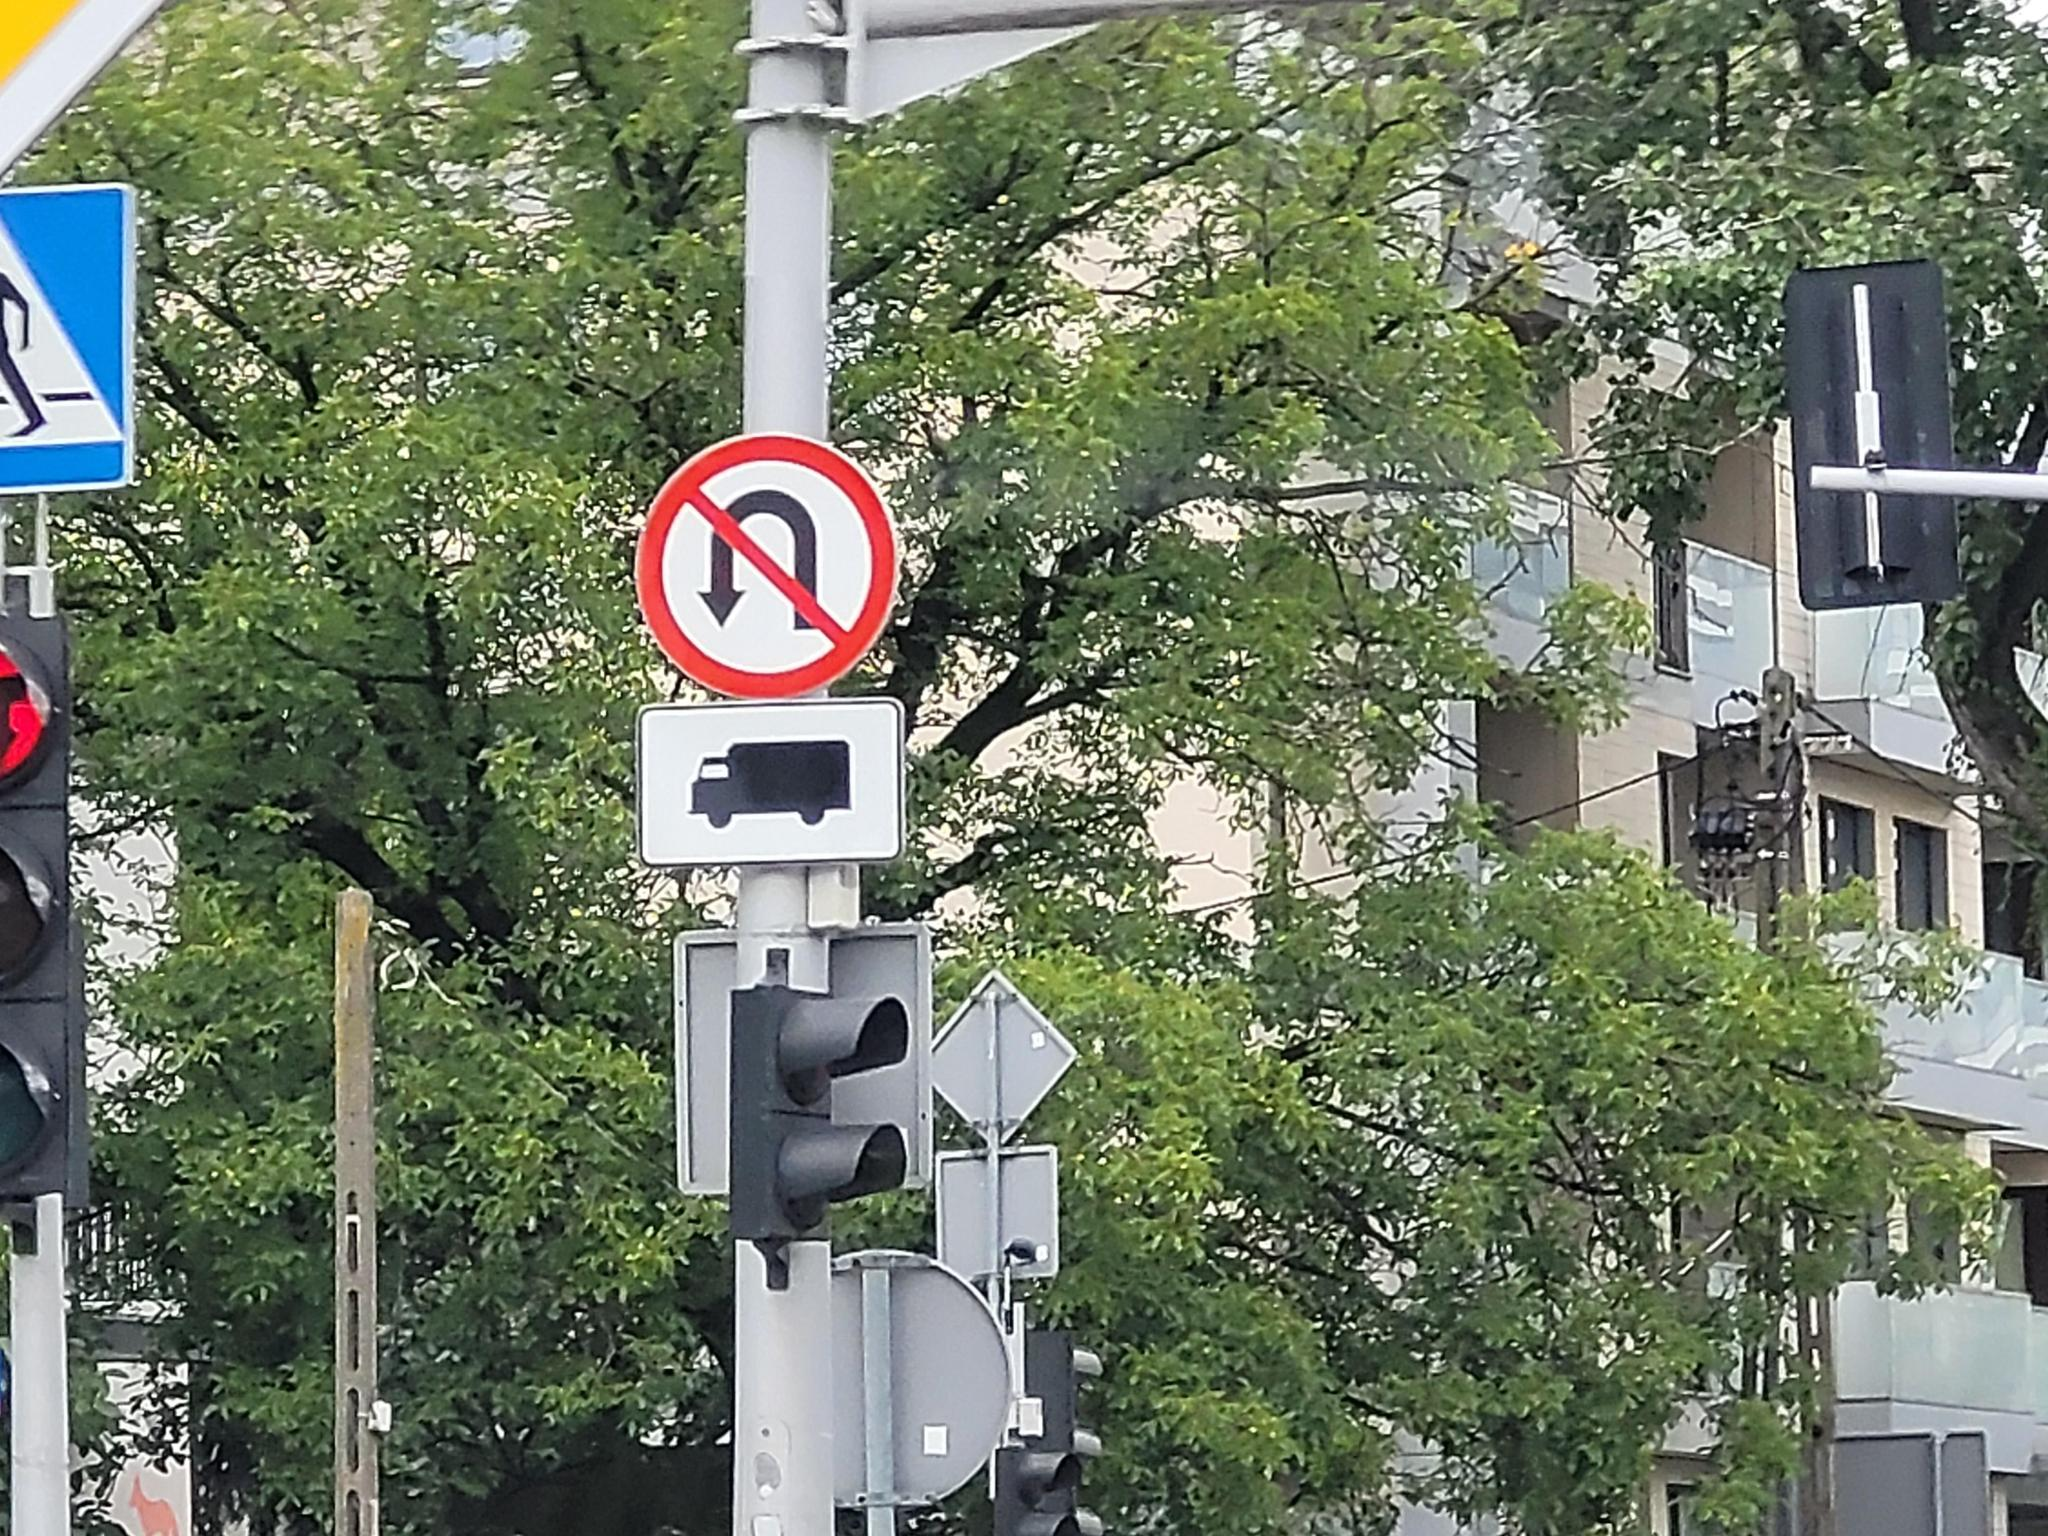information: (0, 190, 132, 492), (0, 0, 166, 181)
other: (642, 705, 900, 863)
prohibitory: (634, 431, 898, 702)
